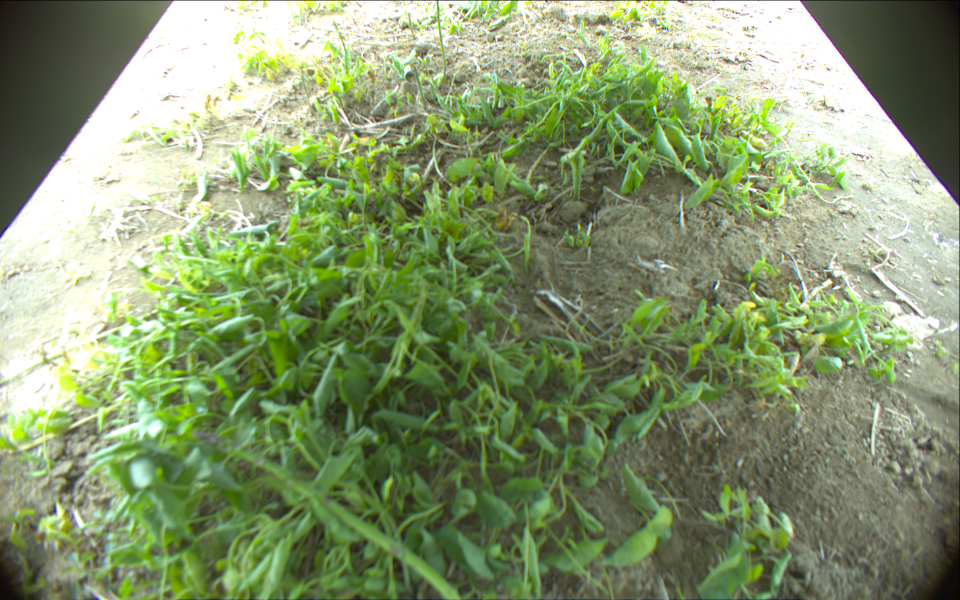aspa: (196, 430, 460, 600), (432, 1, 450, 77), (334, 21, 356, 79), (406, 13, 418, 41)
